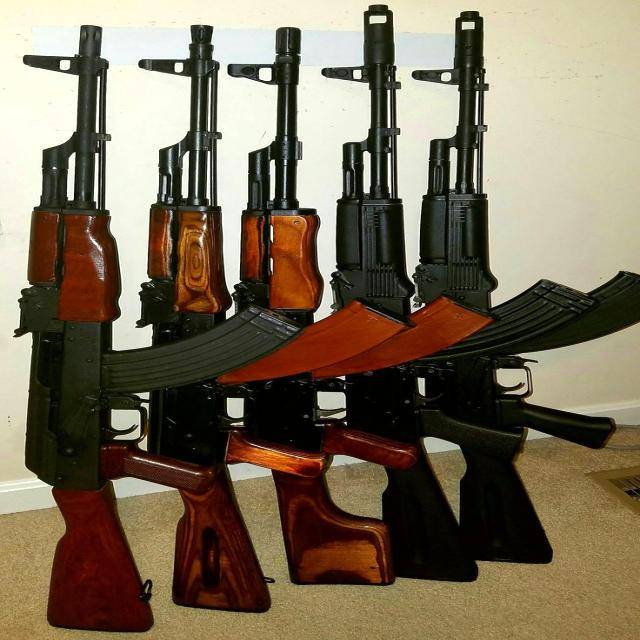ak: (5, 17, 302, 634), (140, 20, 404, 611), (222, 28, 488, 588), (326, 8, 582, 582), (424, 6, 640, 572)
